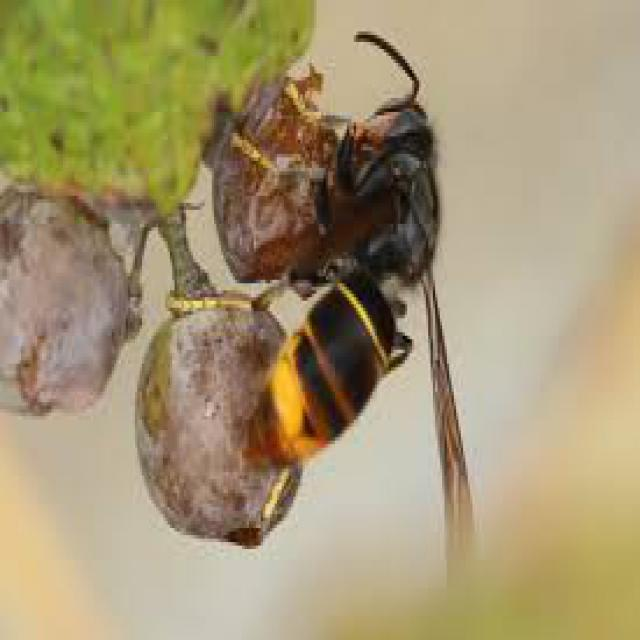Vespa Velutina: (150, 27, 482, 609)
